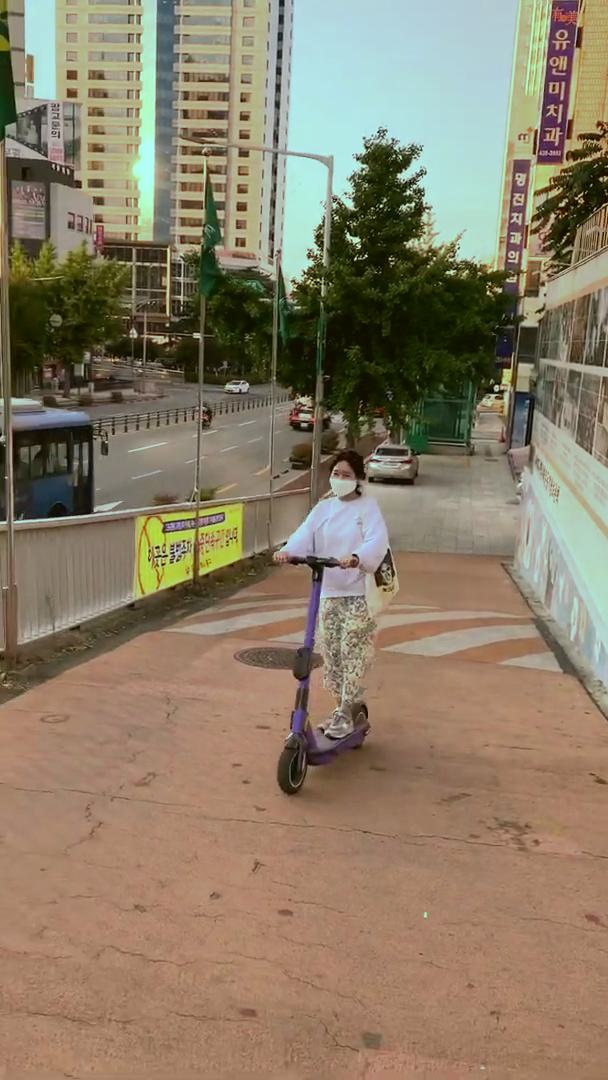nonhelmet: (259, 450, 397, 798)
